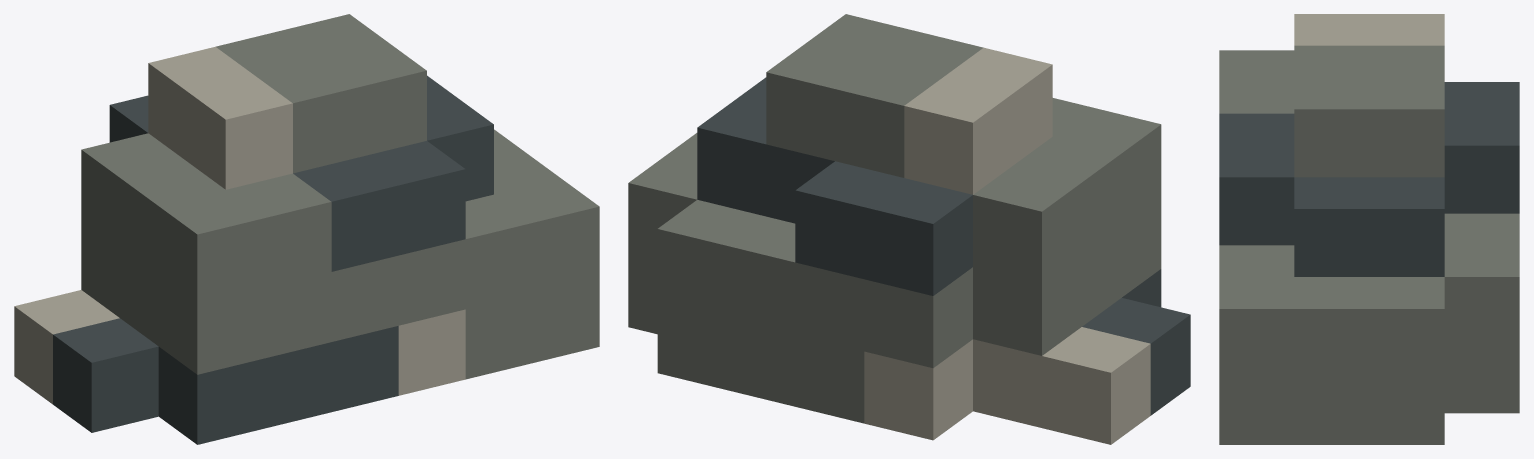
Rendered from layered_rock_v2_far.glb.
3 views of the same model, side by side, from view 1: azimuth 30°, elevation 25°; view 2: azimuth 150°, elevation 25°; view 3: azimuth 270°, elevation 25° (orthographic). The views are drawn at different scales.
Parts seen in each view (by area): view 1: layered_rock_v2_far; view 2: layered_rock_v2_far; view 3: layered_rock_v2_far.
Boxes of the visible parts, bbox=[...] form: layered_rock_v2_far: bbox=[14, 14, 599, 444]; layered_rock_v2_far: bbox=[628, 14, 1190, 444]; layered_rock_v2_far: bbox=[1219, 14, 1519, 444].
Bounding box in the file's own units: 3.5 × 2 × 2.
1 material, 1 textured.
